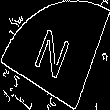N_SW: (33, 23, 77, 87)
